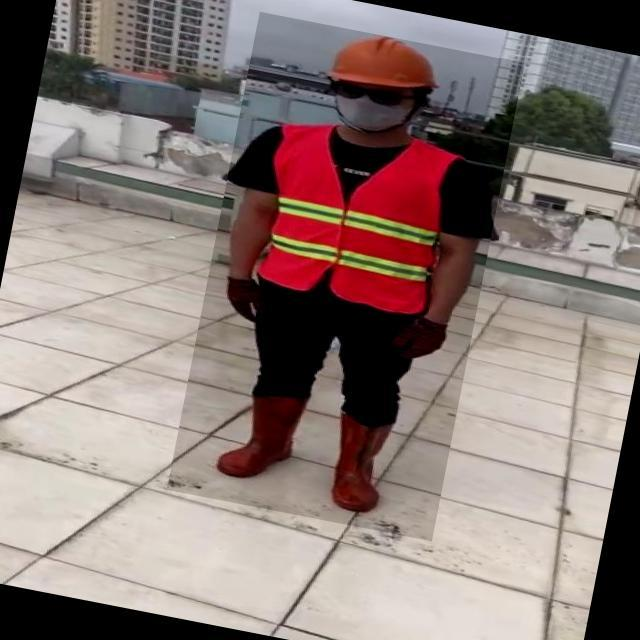Gloves: (388, 320, 447, 371), (216, 275, 275, 325)
Helmet: (320, 27, 443, 103)
Human: (167, 12, 525, 543)
Safety Boot: (216, 391, 309, 489), (322, 415, 396, 520)
Safety Vest: (251, 119, 455, 321)
